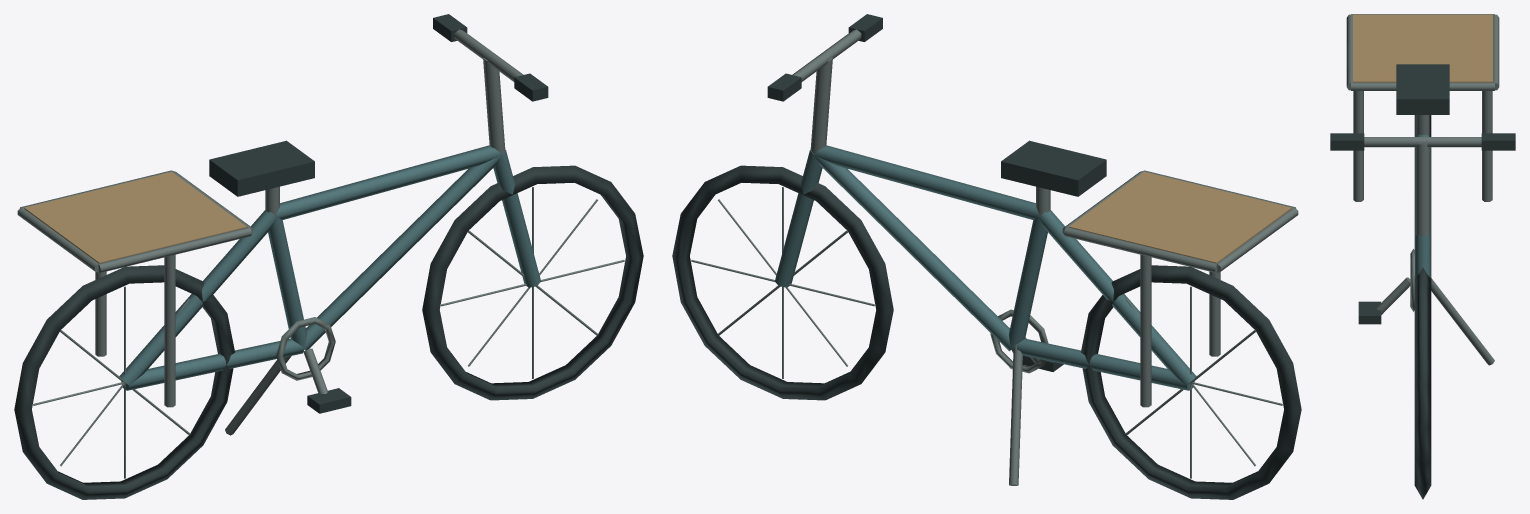
File: legacy-103.glb
3 views of the same model, side by side, from view 1: azimuth 30°, elevation 25°; view 2: azimuth 150°, elevation 25°; view 3: azimuth 270°, elevation 25° (orthographic). The views are drawn at different scales.
Visible parts, largest first — view 1: part-6, part-33, part-1, part-15, part-14, part-18, part-12, part-11, part-16, part-13, part-32, part-29 (+8 smaller); view 2: part-6, part-33, part-1, part-15, part-14, part-18, part-12, part-11, part-16, part-13, part-31, part-27 (+7 smaller); view 3: part-33, part-6, part-18, part-19, part-20, part-31, part-32, part-26, part-28, part-21, part-22, part-16 (+7 smaller).
Part boxes in pixels (x1,y1,x2,y2): part-6: (422, 165, 643, 400); part-33: (24, 171, 246, 263); part-1: (14, 265, 234, 499); part-15: (304, 155, 501, 350); part-14: (276, 145, 501, 219); part-18: (209, 140, 314, 196); part-12: (119, 210, 276, 385); part-11: (121, 338, 304, 390); part-16: (493, 150, 540, 287); part-13: (268, 217, 307, 347); part-32: (164, 254, 175, 407); part-29: (98, 227, 251, 272); part-6: (672, 165, 893, 400); part-33: (1069, 171, 1291, 263); part-1: (1081, 265, 1301, 499); part-15: (814, 155, 1011, 351); part-14: (814, 145, 1039, 219); part-18: (1001, 140, 1106, 196); part-12: (1039, 210, 1196, 385); part-11: (1011, 338, 1194, 390); part-16: (775, 150, 822, 287); part-13: (1008, 217, 1047, 347); part-31: (1140, 254, 1151, 407); part-27: (1064, 227, 1217, 272); part-33: (1353, 14, 1492, 82); part-6: (1414, 267, 1431, 499); part-18: (1396, 64, 1449, 114); part-19: (1415, 143, 1430, 235); part-20: (1364, 137, 1481, 147); part-31: (1482, 91, 1492, 201); part-32: (1353, 91, 1363, 201); part-26: (1431, 278, 1494, 365); part-28: (1351, 82, 1494, 90); part-21: (1481, 133, 1515, 150); part-22: (1330, 133, 1364, 150); part-16: (1415, 234, 1430, 278).
Bounding box in the file's own units: 1.79 × 0.97 × 0.49.
